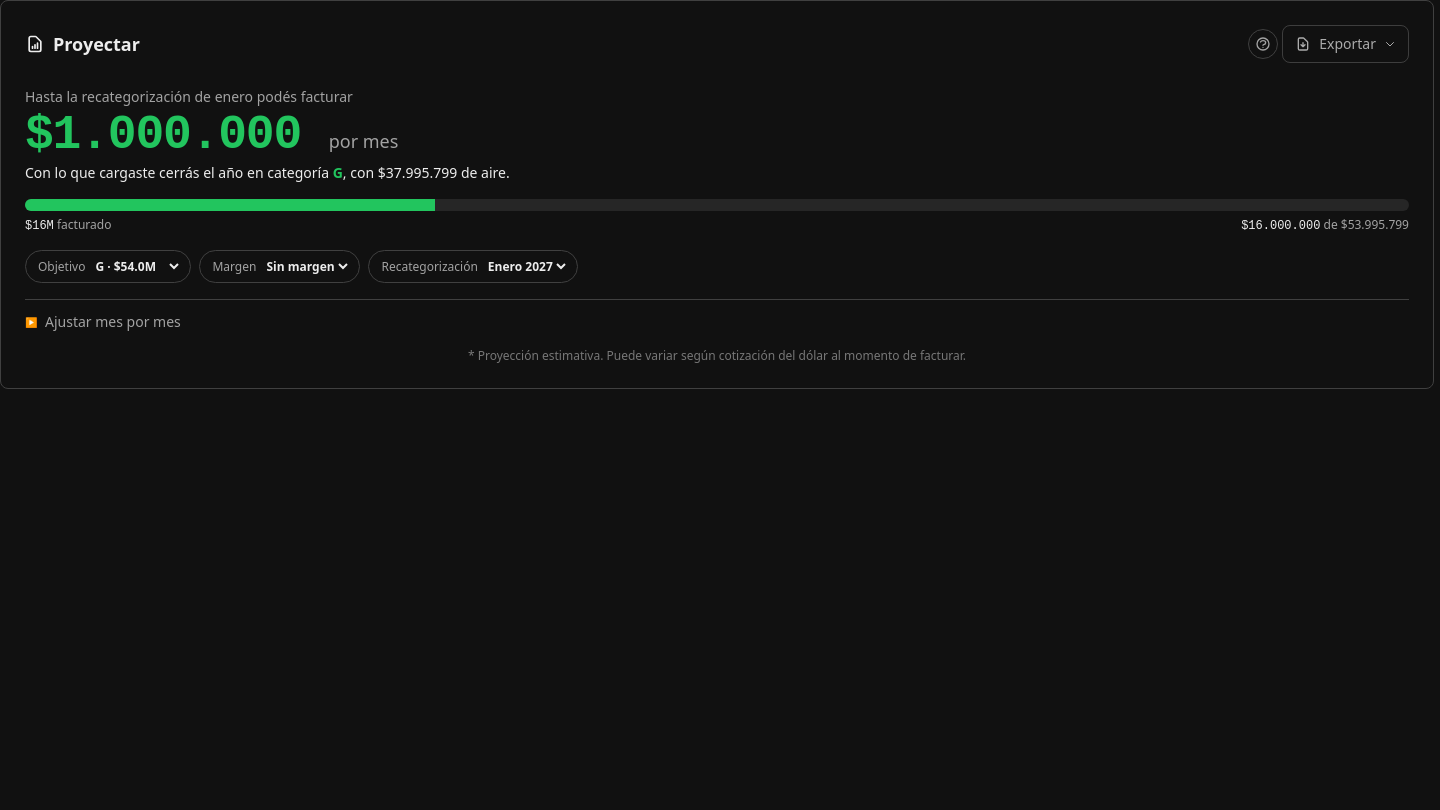
Scenario: ProjectionPanel · volver adentro de la categoría › no mezcla los dos avisos
Click the heading "▶ Ajustar mes por mes" at (103, 322), box [25,312,181,331]
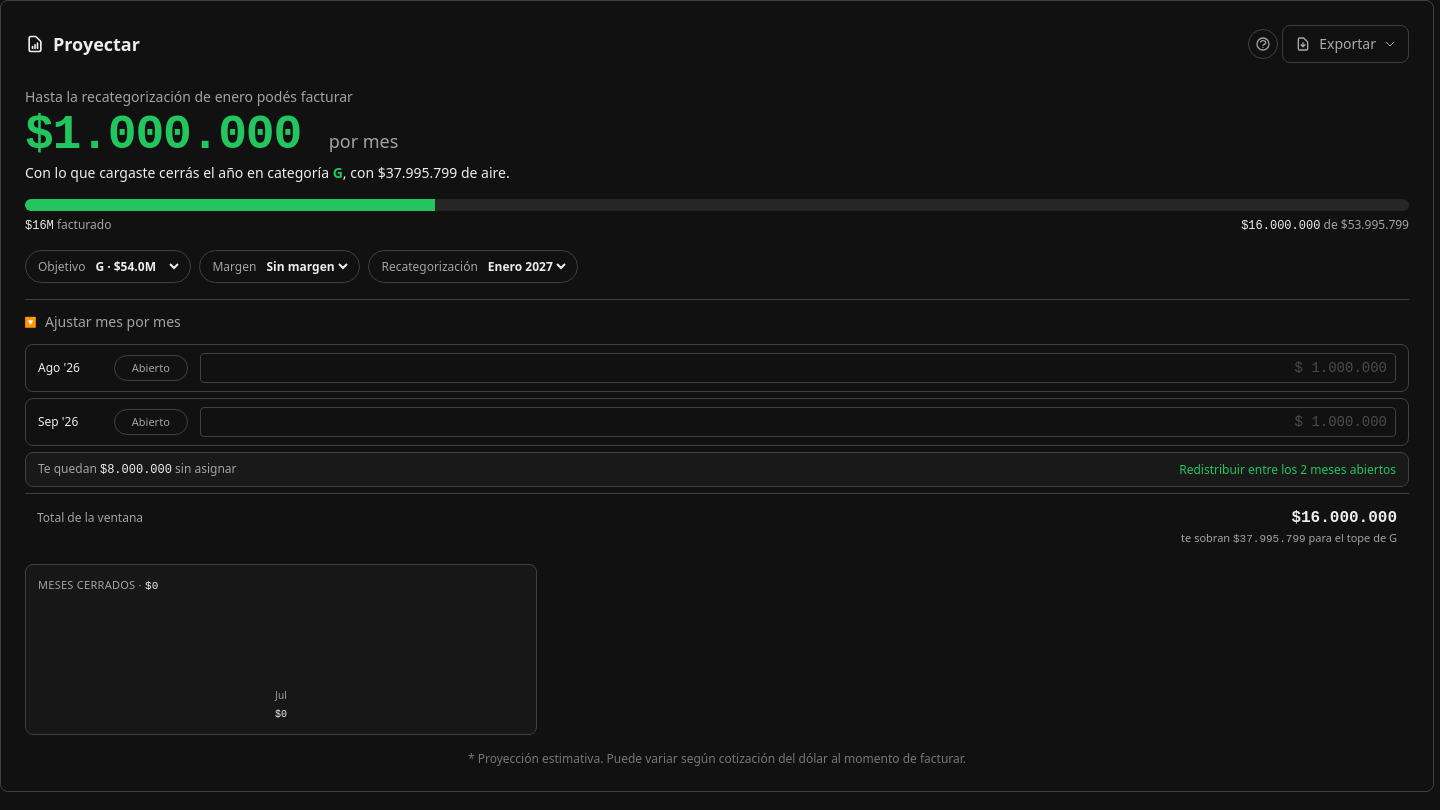
Check: the element with test id "sin-asignar" is shown, box [25,452,1409,487]
